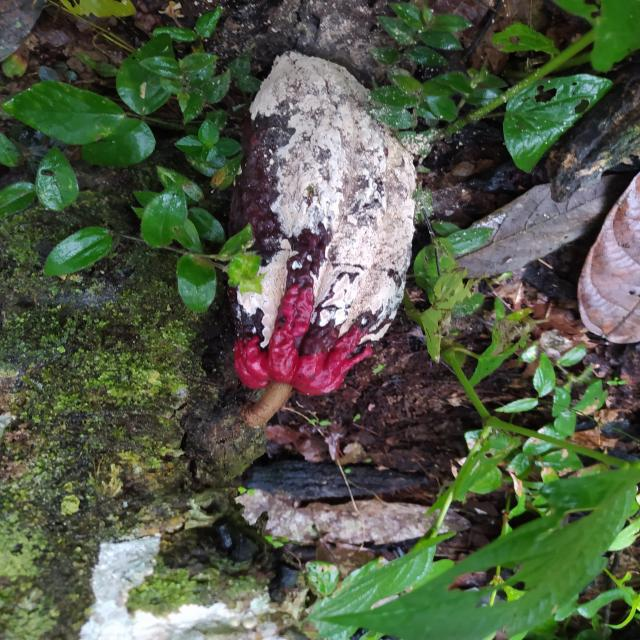Monilia: (235, 47, 418, 396)
